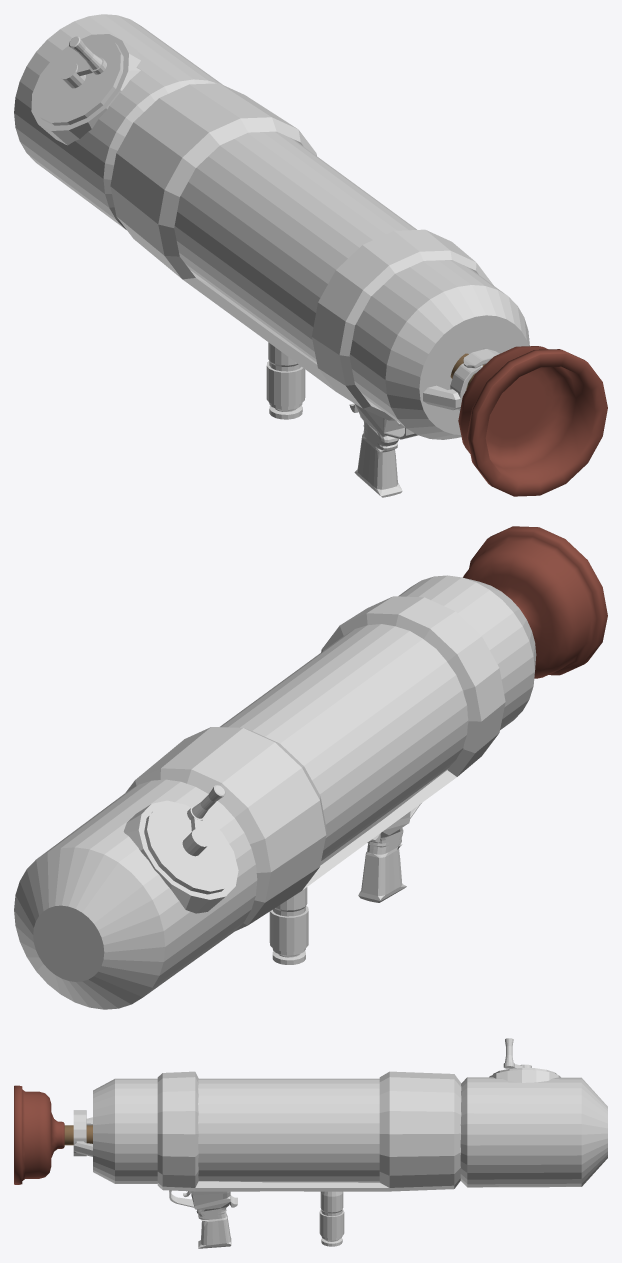
Rendered from plunger_launcher.fbx.
The picture shows the model from 3 angles, top to bottom: view 1: azimuth 30°, elevation 25°; view 2: azimuth 150°, elevation 25°; view 3: azimuth 270°, elevation 25°; orthographic projection. The views are drawn at different scales.
Visible parts, largest first — view 1: Tube, Support, Plunger, Backing, Crank, Grip, Handle, Crank Base, Ring, Ring Stand; view 2: Tube, Backing, Support, Plunger, Crank, Grip, Handle, Crank Base; view 3: Tube, Support, Backing, Plunger, Grip, Handle, Crank Base, Ring, Crank.
Part boxes in pixels (x1,y1,x2,y2): Tube: [174, 131, 529, 439]; Support: [110, 83, 493, 420]; Plunger: [450, 346, 607, 496]; Backing: [14, 14, 222, 229]; Crank: [34, 36, 123, 125]; Grip: [349, 403, 417, 497]; Handle: [266, 342, 305, 419]; Crank Base: [31, 34, 140, 145]; Ring: [450, 349, 499, 410]; Ring Stand: [423, 385, 461, 410]; Tube: [220, 575, 536, 860]; Backing: [14, 779, 257, 1009]; Support: [125, 596, 505, 930]; Plunger: [463, 526, 607, 678]; Crank: [144, 785, 235, 894]; Grip: [358, 803, 421, 902]; Handle: [269, 887, 308, 964]; Crank Base: [123, 800, 238, 913]; Tube: [93, 1078, 379, 1183]; Support: [157, 1071, 461, 1191]; Backing: [460, 1077, 607, 1187]; Plunger: [14, 1085, 92, 1184]; Grip: [169, 1190, 237, 1248]; Handle: [319, 1191, 344, 1246]; Crank Base: [489, 1070, 560, 1082]; Ring: [73, 1110, 86, 1156]; Crank: [493, 1038, 556, 1074].
Bounding box in the file's own units: 292 × 473 × 1361.
